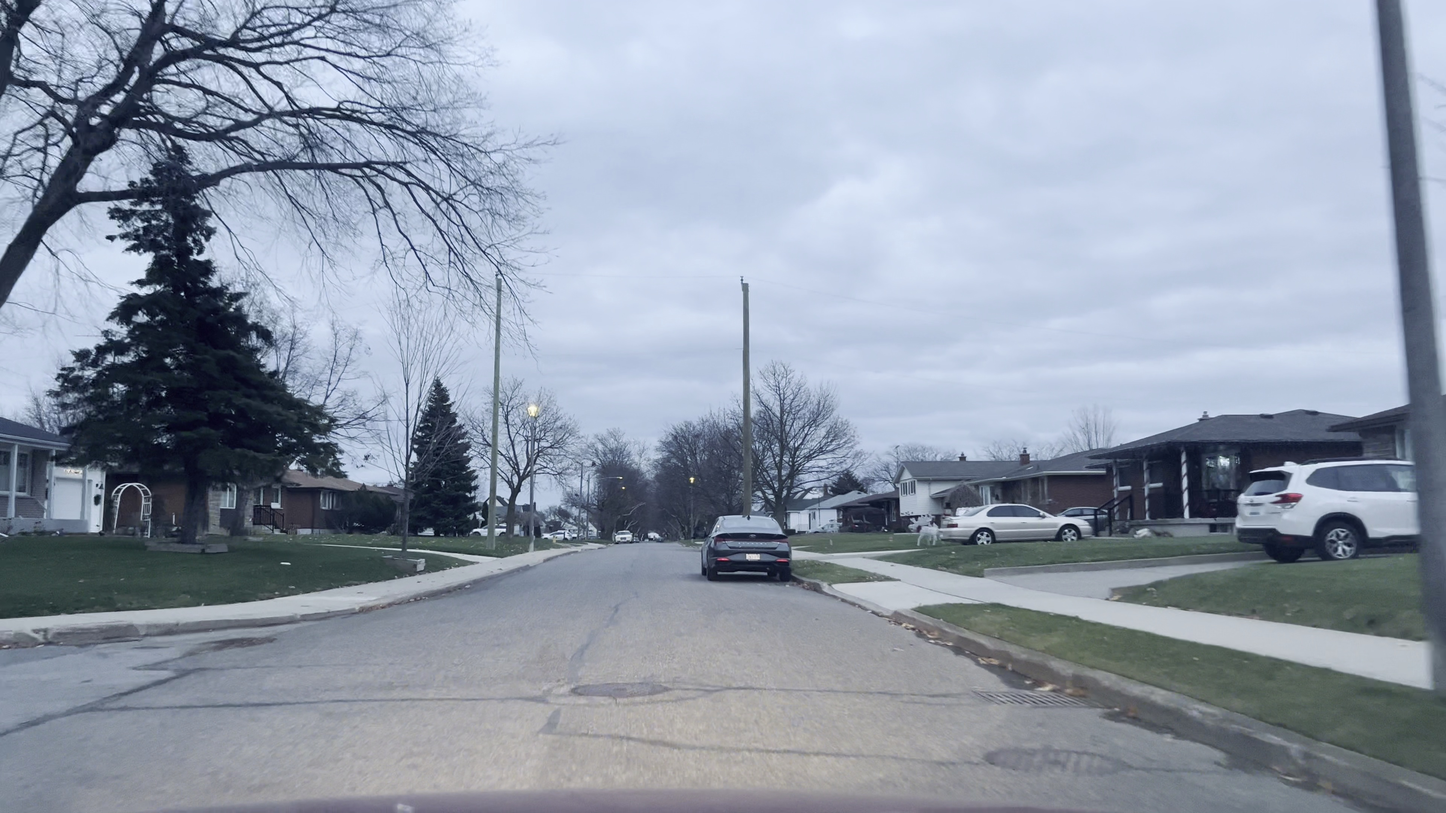cracks: (46, 659, 227, 729)
